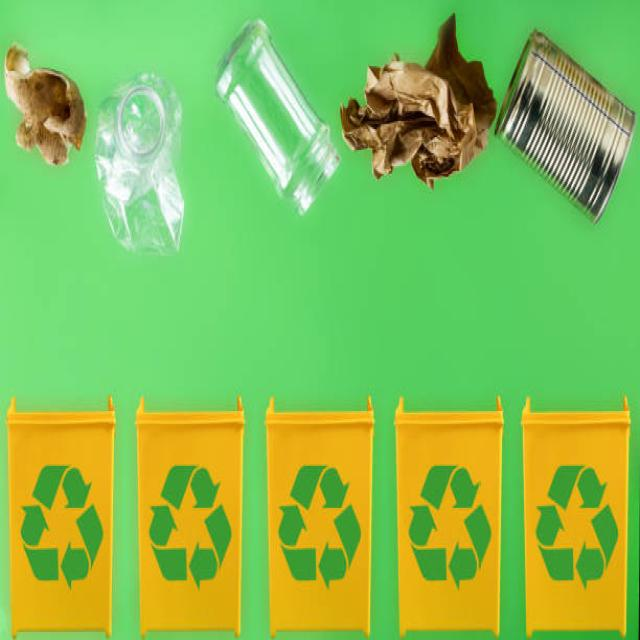glass: (208, 9, 343, 218)
paper: (351, 43, 500, 200)
plastic: (94, 76, 190, 251)
